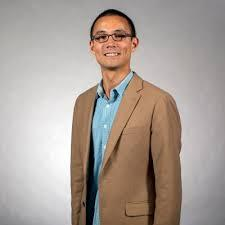person: (68, 5, 159, 89)
